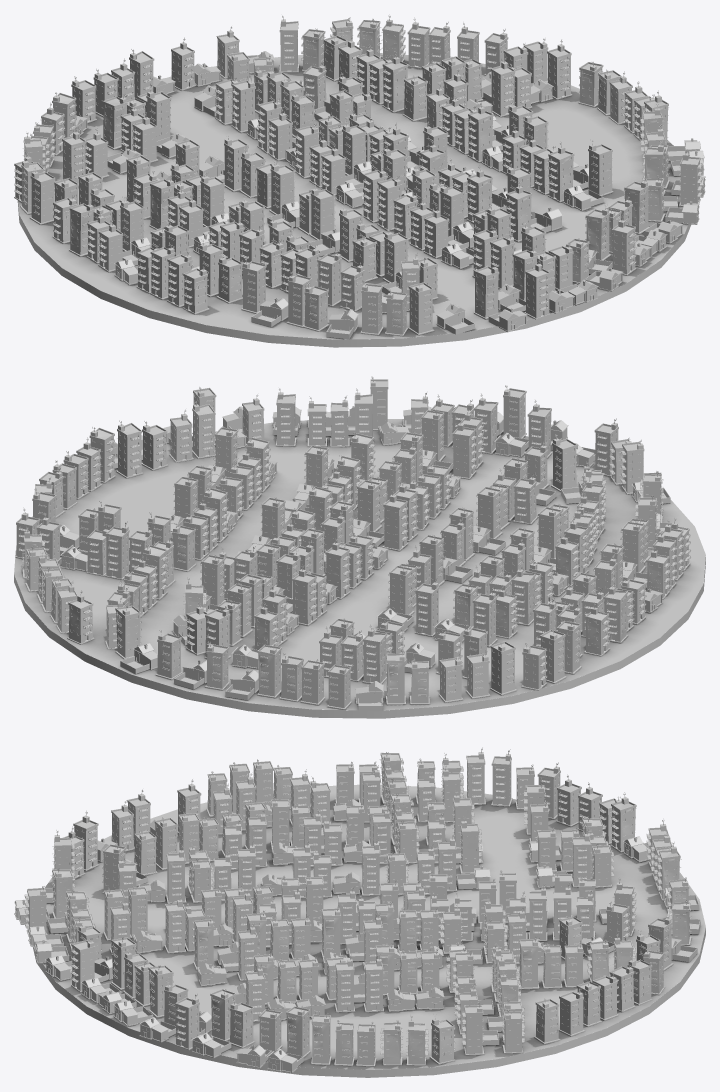
File: city.glb
The picture shows the model from 3 angles, top to bottom: view 1: azimuth 30°, elevation 25°; view 2: azimuth 150°, elevation 25°; view 3: azimuth 270°, elevation 25°; orthographic projection. The views are drawn at different scales.
Parts seen in each view (by area): view 1: Object_2, Object_16, Object_4, Object_11, Object_5, Object_1, Object_9, Object_12, Object_7, Object_8, Object_13, Object_10 (+4 smaller); view 2: Object_2, Object_16, Object_4, Object_11, Object_9, Object_12, Object_5, Object_8, Object_10, Object_1, Object_7, Object_13 (+4 smaller); view 3: Object_2, Object_16, Object_4, Object_13, Object_3, Object_9, Object_5, Object_11, Object_12, Object_7, Object_14, Object_1 (+4 smaller).
Part boxes in pixels (x1,y1,x2,y2): Object_2: (15,20,705,347); Object_16: (18,53,688,339); Object_4: (473,103,700,332); Object_11: (85,26,265,197); Object_5: (23,92,636,339); Object_1: (309,134,546,269); Object_9: (256,160,514,335); Object_12: (71,15,603,210); Object_7: (53,160,310,314); Object_8: (14,127,474,334); Object_13: (360,115,613,241); Object_10: (215,66,402,230); Object_2: (14,381,705,718); Object_16: (14,419,705,710); Object_4: (114,385,568,478); Object_11: (155,563,439,705); Object_9: (377,408,618,588); Object_12: (105,447,351,709); Object_5: (355,376,678,711); Object_8: (404,443,684,690); Object_10: (216,480,418,646); Object_1: (299,409,460,588); Object_7: (453,504,691,656); Object_13: (208,427,375,569); Object_2: (14,754,705,1077); Object_16: (35,784,705,1069); Object_4: (14,868,310,1073); Object_13: (193,901,443,1021); Object_3: (174,948,664,1068); Object_9: (52,830,408,940); Object_5: (62,747,649,992); Object_11: (417,816,700,945); Object_12: (228,820,697,1012); Object_7: (206,758,445,868); Object_14: (363,896,525,1055); Object_1: (109,880,421,953).
Bounding box in the file's own units: 1598 × 153 × 1613.
Materials: 2 (1 with a texture image).
